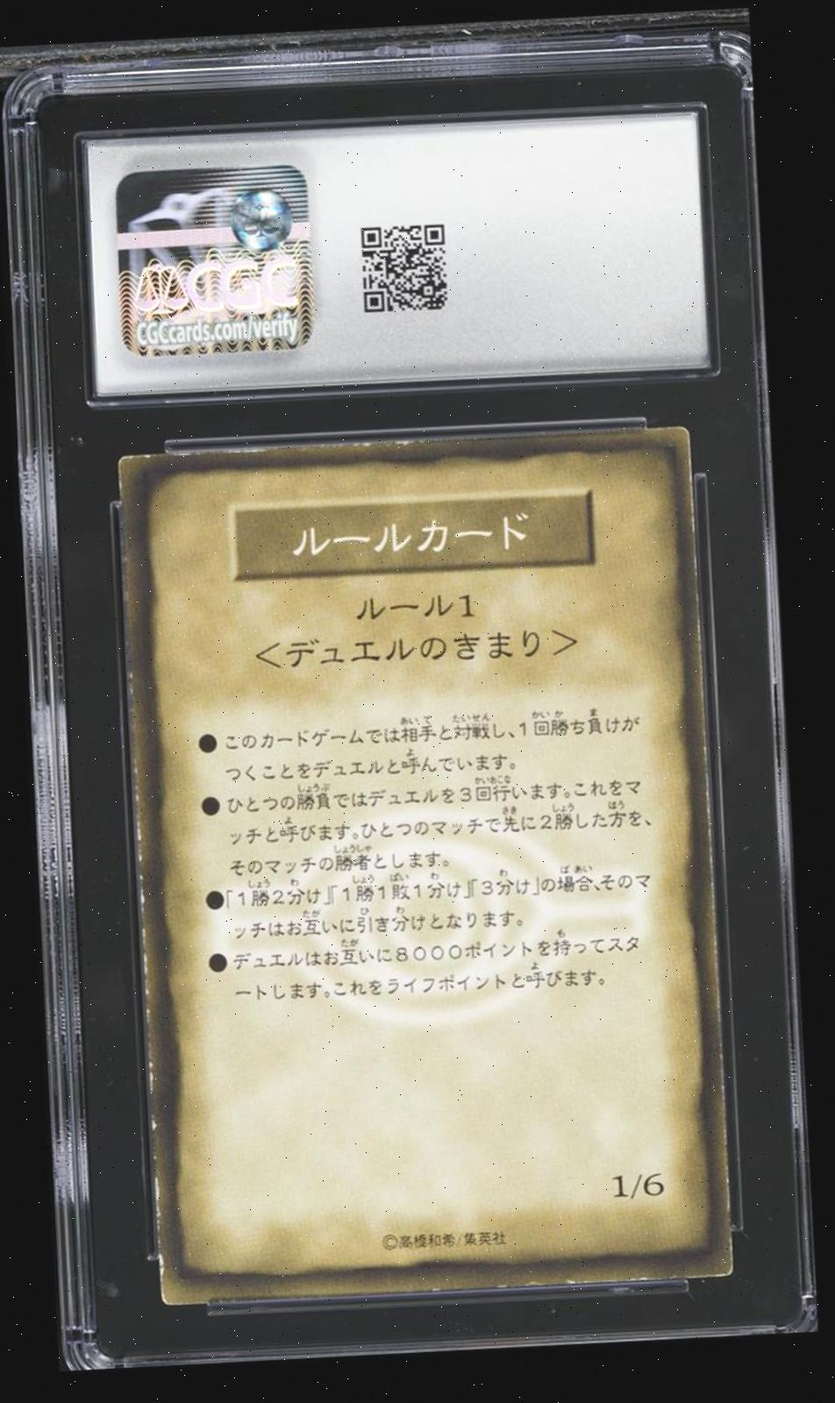card-2UtV: (118, 425, 734, 1306)
